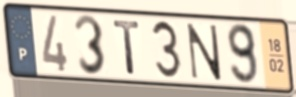3: (73, 13, 108, 78), (150, 18, 184, 82)
4: (40, 13, 70, 74)
9: (225, 21, 261, 88)
N: (185, 21, 224, 83)
T: (111, 18, 142, 77)
